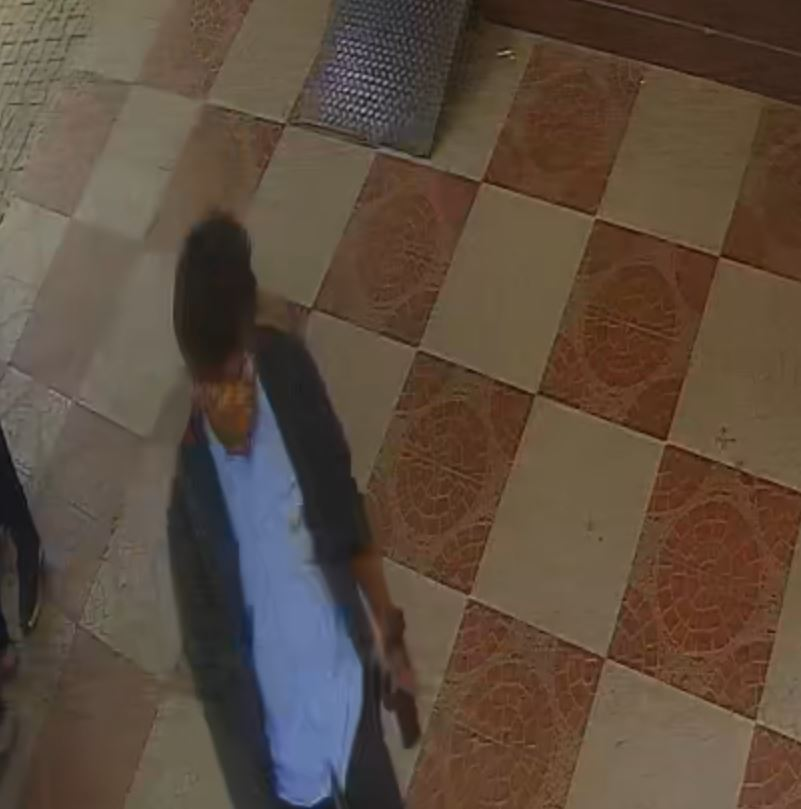intruder: (169, 193, 405, 809)
